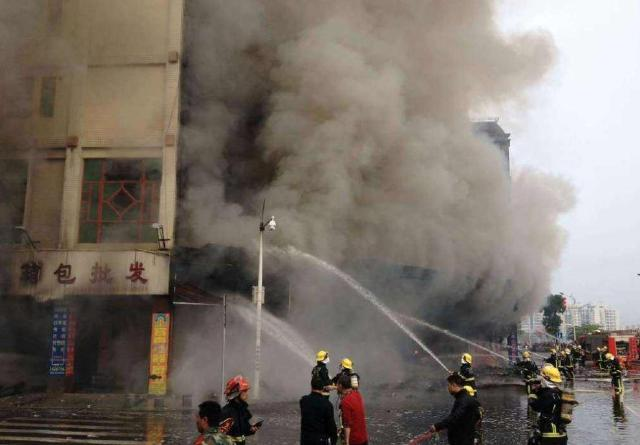smoke: (181, 0, 557, 255), (181, 262, 415, 393), (418, 255, 550, 337)
